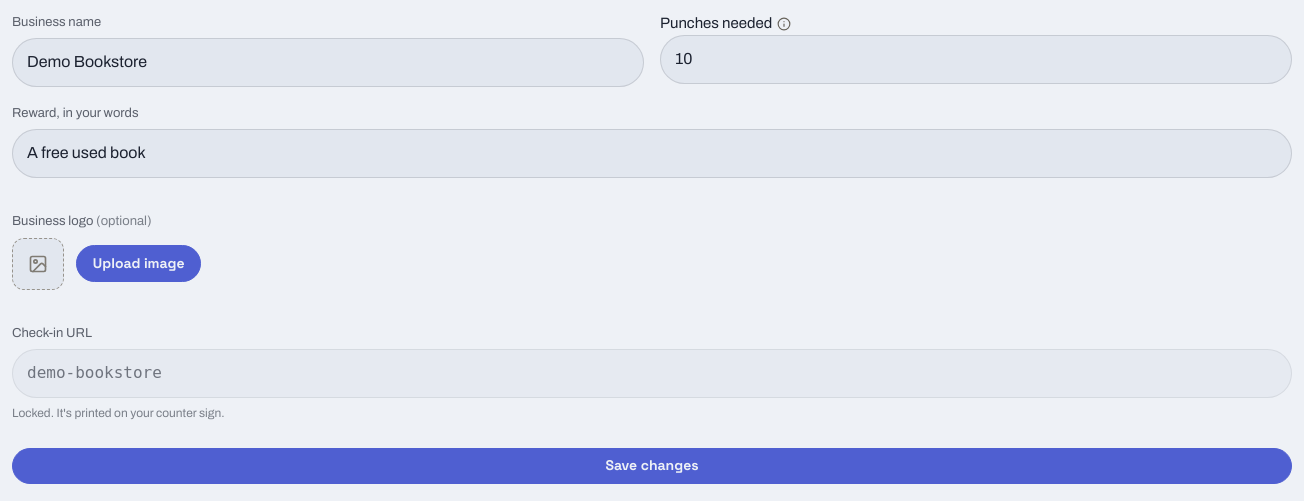
Test: SettingsForm › explains, behind the info tip, that lowering the threshold makes customers instantly eligible
Click the button named "why this matters".
click(784, 24)  # box [777, 17, 791, 31]
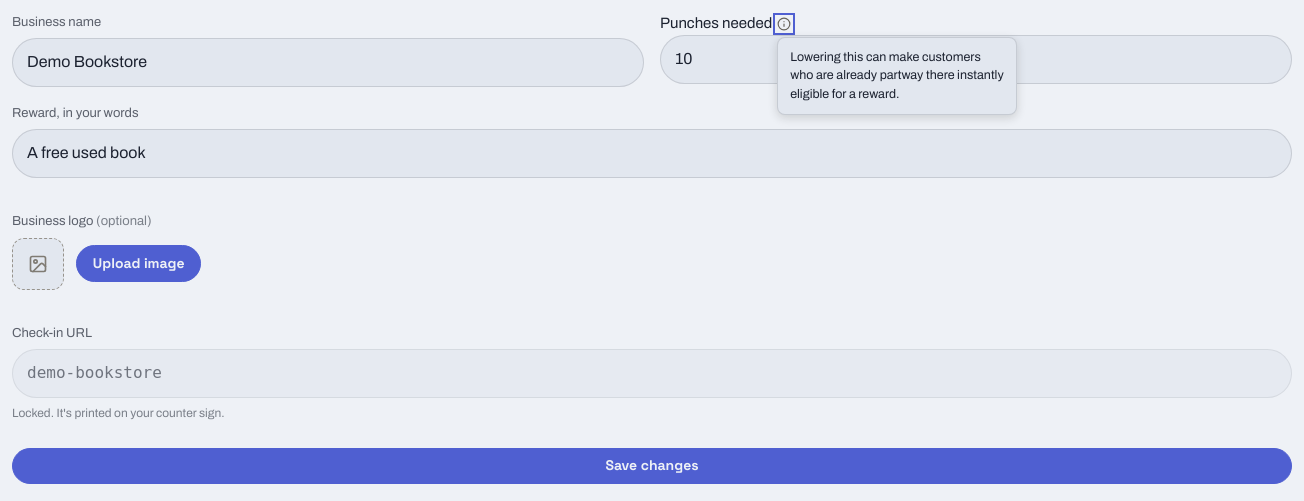
Now the tooltip "instantly eligible" is shown, box [790, 50, 1004, 101]
